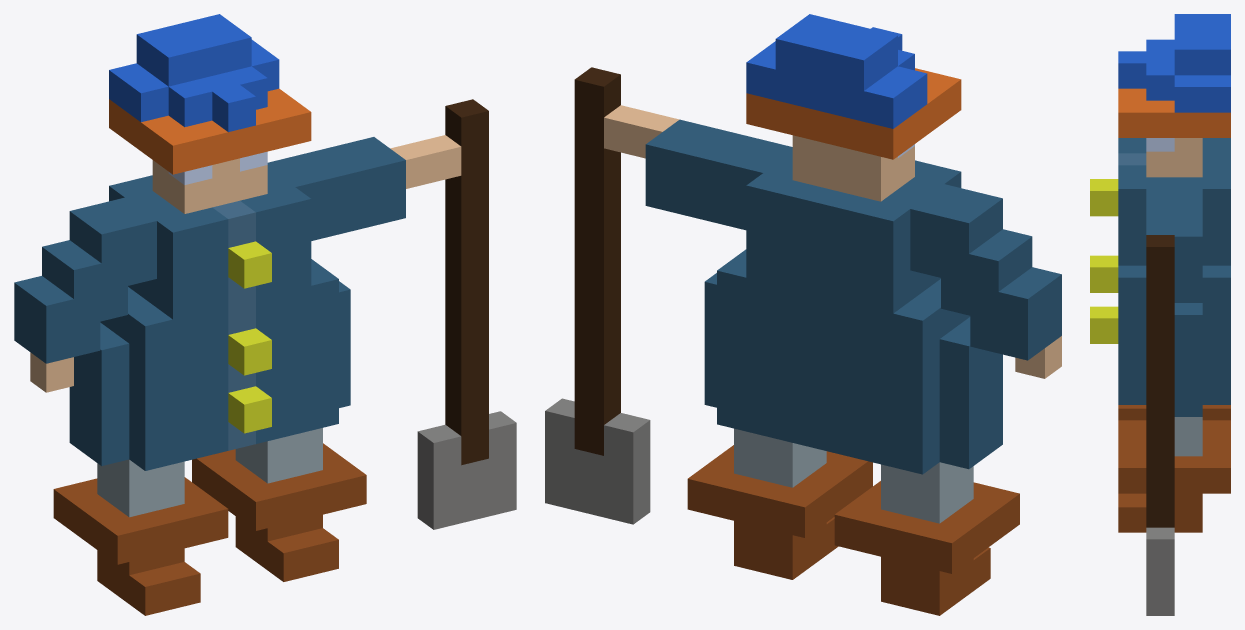
Rendered from citizen_first_01_UE.fbx.
3 renders of one model, left to right at view 1: azimuth 30°, elevation 25°; view 2: azimuth 150°, elevation 25°; view 3: azimuth 270°, elevation 25°, orthographic. The views are drawn at different scales.
Parts seen in each view (by area): view 1: citizen_first_01_UE; view 2: citizen_first_01_UE; view 3: citizen_first_01_UE.
Boxes of the visible parts, x1,y1,x2,y2 form: citizen_first_01_UE: (14, 14, 516, 615); citizen_first_01_UE: (545, 14, 1061, 615); citizen_first_01_UE: (1090, 14, 1230, 615).
Size of what is drawn, in the model's own units: 85 by 90 by 25.
1 material, 1 textured.
